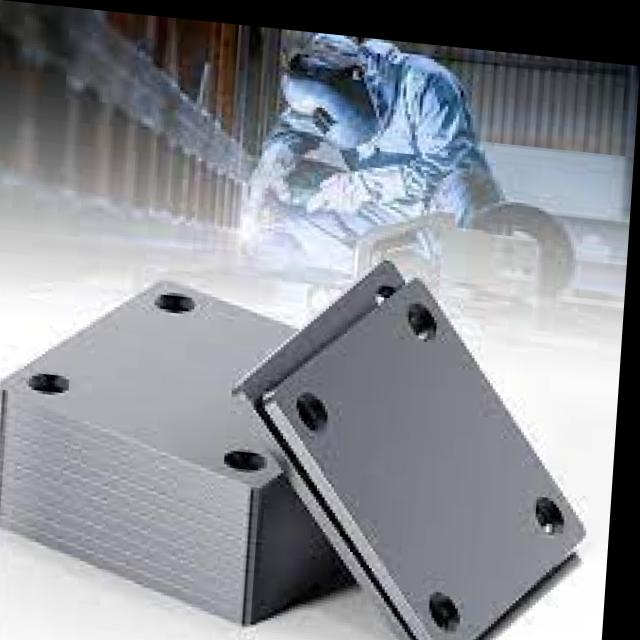holes: (301, 382, 337, 424), (436, 579, 472, 621), (541, 481, 575, 521), (411, 291, 445, 330), (230, 442, 274, 468), (161, 285, 202, 311), (34, 369, 78, 392)
